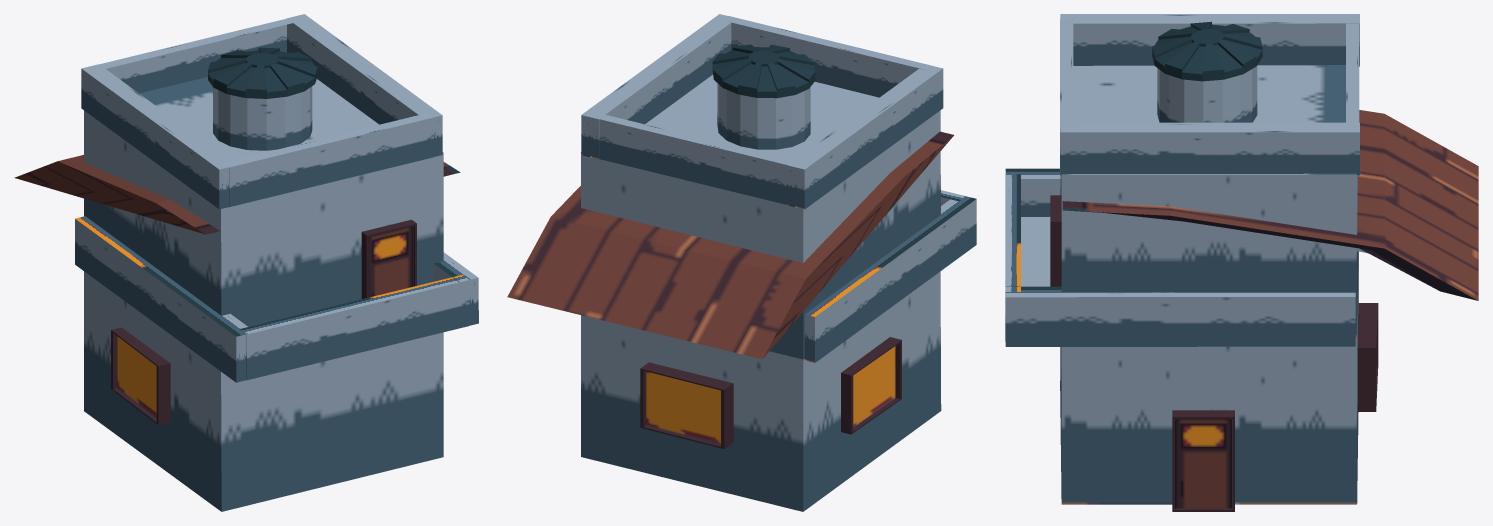
File: CasaS3.fbx
The picture shows the model from 3 angles, left to right: view 1: azimuth 30°, elevation 25°; view 2: azimuth 150°, elevation 25°; view 3: azimuth 270°, elevation 25°; orthographic projection. The views are drawn at different scales.
Parts seen in each view (by area): view 1: Casa 3; view 2: Casa 3; view 3: Casa 3.
Part boxes in pixels (bbox=[...]): Casa 3: bbox=[14, 14, 478, 511]; Casa 3: bbox=[507, 14, 976, 511]; Casa 3: bbox=[1005, 14, 1478, 511].
Size of the model in its own units: 671 by 995 by 948.
